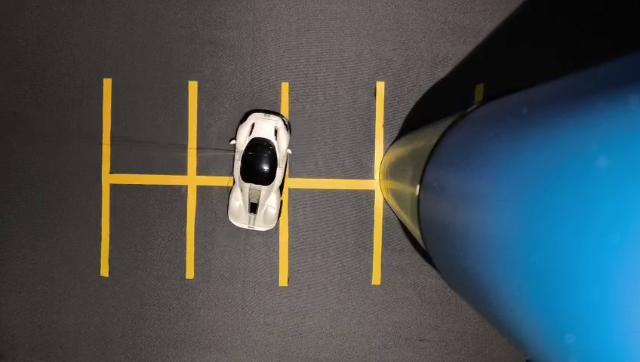toy_car: (207, 90, 334, 260)
